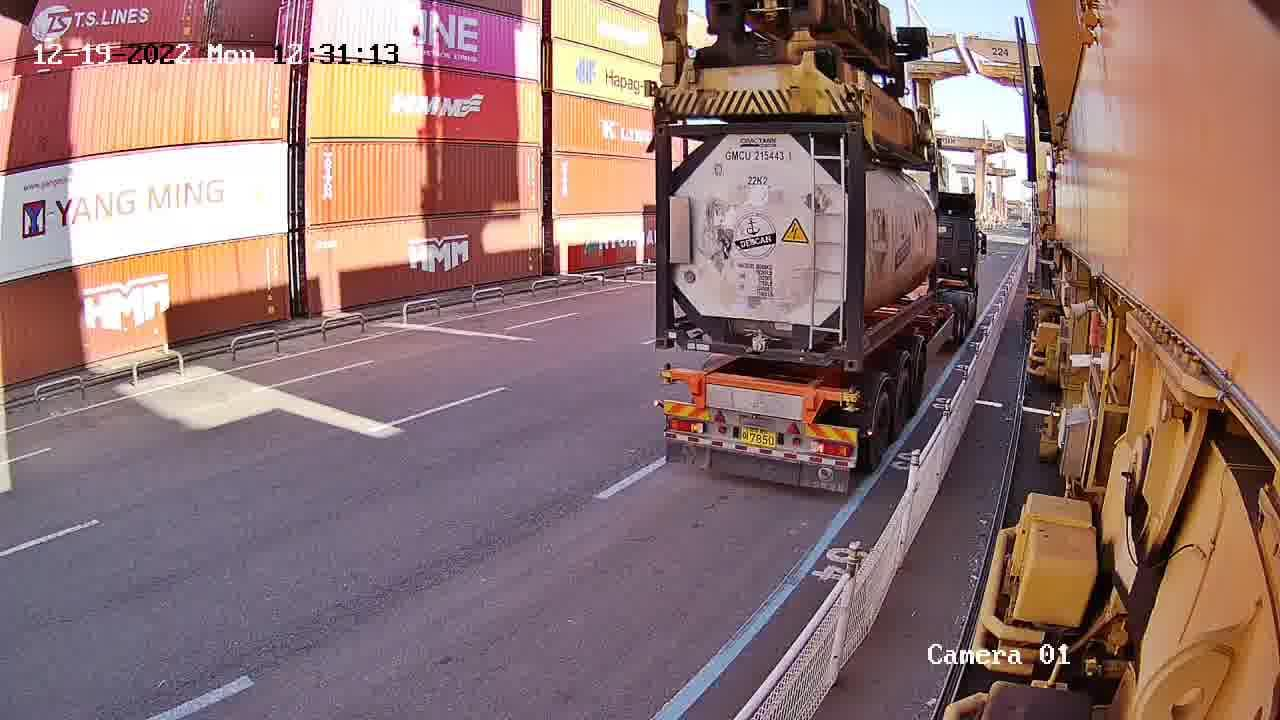Chassis: (672, 370, 840, 425)
Cone: (658, 358, 674, 387), (843, 385, 858, 413)
Hole_L: (653, 322, 688, 352)
Hole_R: (822, 332, 859, 371)
Tire: (872, 393, 890, 467), (895, 369, 909, 430), (914, 351, 925, 409)
